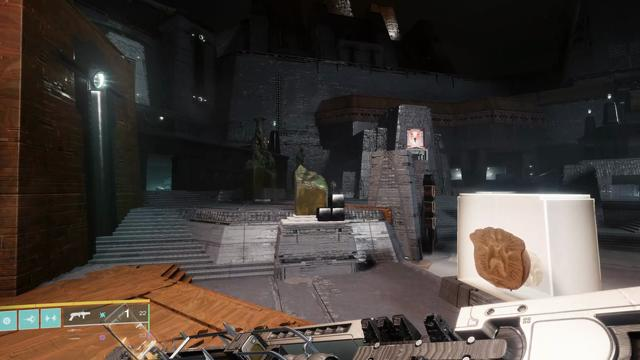give: (409, 132, 421, 145)
